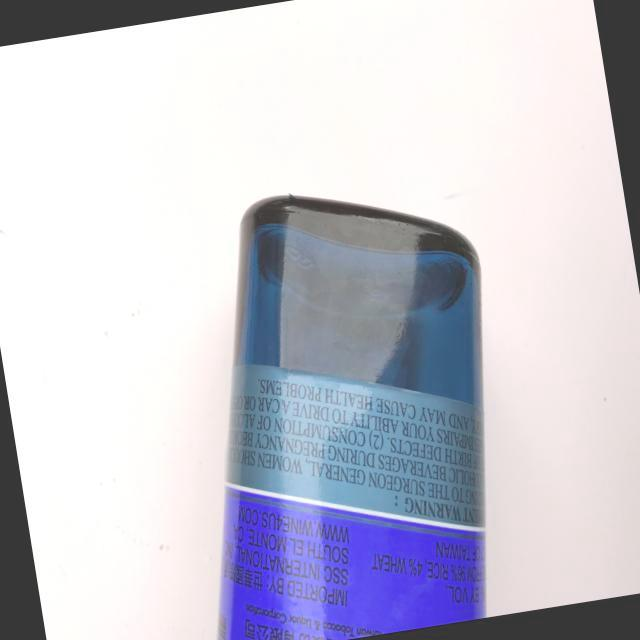glass: (132, 148, 547, 640)
